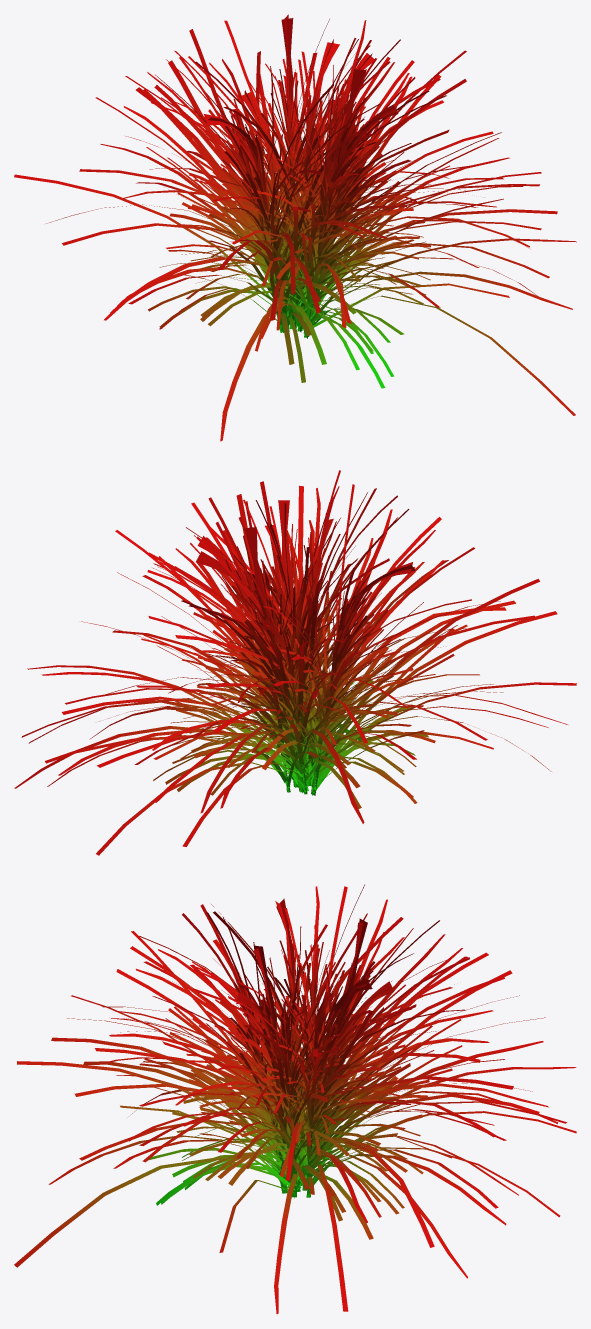
Rendered from Basket Grass_LOD2_Var3_slfpffjr.fbx.
3 views of the same model, one above another, from view 1: azimuth 30°, elevation 25°; view 2: azimuth 150°, elevation 25°; view 3: azimuth 270°, elevation 25° (orthographic).
Parts seen in each view (by area): view 1: _1ec3_Var3_LOD2; view 2: _1ec3_Var3_LOD2; view 3: _1ec3_Var3_LOD2.
Part boxes in pixels (left/top/right/bottom): _1ec3_Var3_LOD2: left=14, top=14, right=576, bottom=441; _1ec3_Var3_LOD2: left=14, top=470, right=576, bottom=855; _1ec3_Var3_LOD2: left=14, top=884, right=576, bottom=1313.
Bounding box in the file's own units: 72.09 × 42.58 × 73.16.
